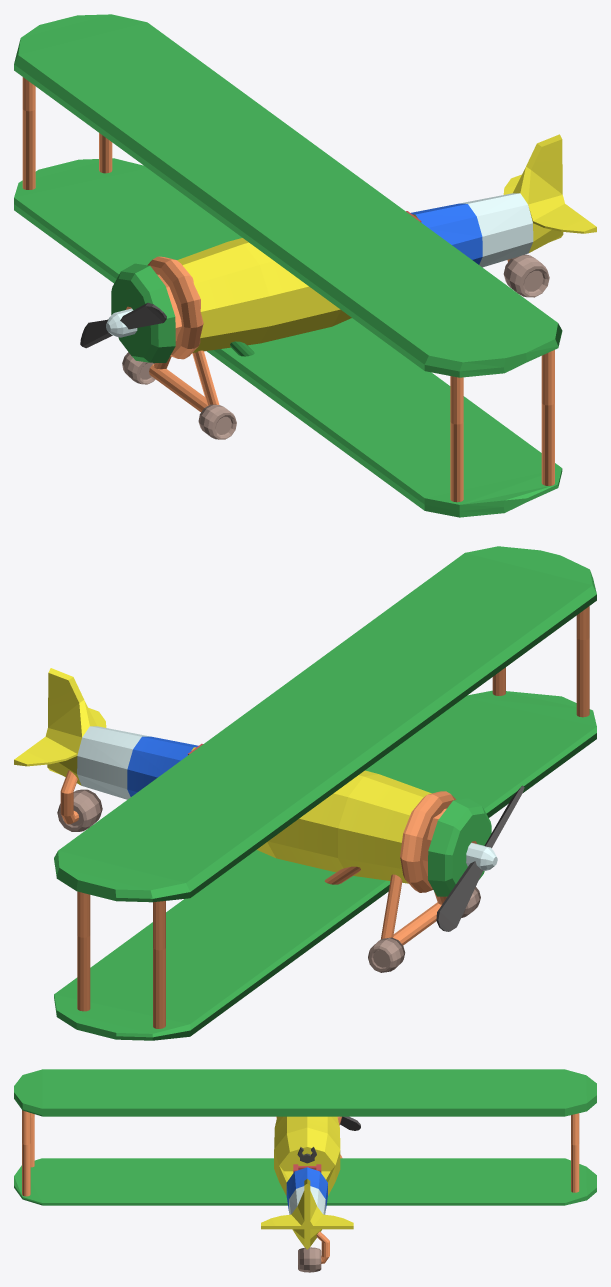
The model's file is planor.fbx.
3 views of the same model, one above another, from view 1: azimuth 30°, elevation 25°; view 2: azimuth 150°, elevation 25°; view 3: azimuth 270°, elevation 25° (orthographic). The views are drawn at different scales.
Visible parts, largest first — view 1: SariPlane, Ucak_Pervane4; view 2: SariPlane, Ucak_Pervane4; view 3: SariPlane.
Part boxes in pixels (x1=…): SariPlane: x1=14, y1=14, x2=596, y2=517; Ucak_Pervane4: x1=80, y1=302, x2=166, y2=348; SariPlane: x1=14, y1=546, x2=596, y2=1040; Ucak_Pervane4: x1=436, y1=785, x2=524, y2=931; SariPlane: x1=14, y1=1069, x2=596, y2=1272.
Size of the model in its own units: 1335 by 319 by 759.
